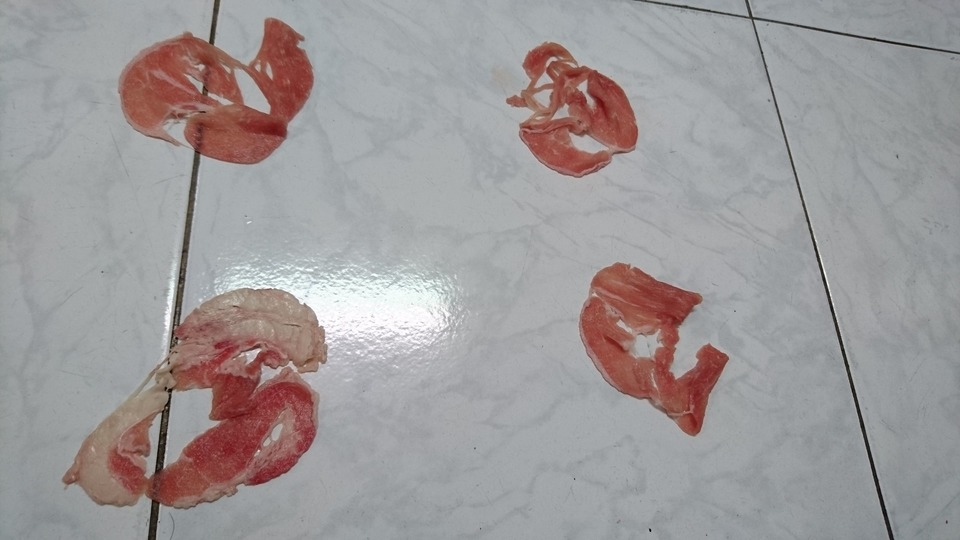restructured meat: (58, 279, 332, 513), (116, 15, 314, 169), (575, 258, 737, 444), (507, 29, 641, 179)
